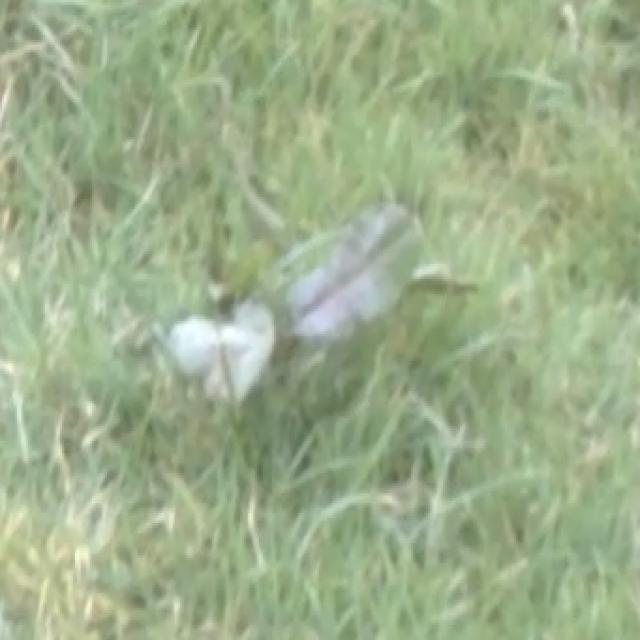organic waste: (110, 197, 479, 439)
